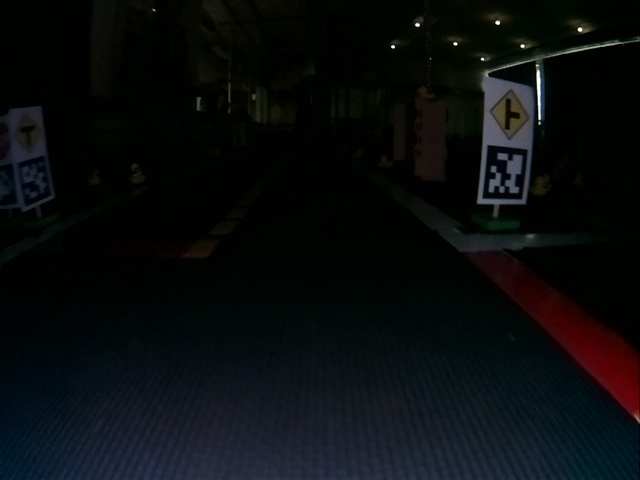Duckie: (130, 164, 146, 183), (89, 171, 100, 184)
Intersection sign: (487, 86, 530, 140), (15, 112, 43, 154)
QR code: (482, 144, 526, 202), (18, 160, 51, 206)
